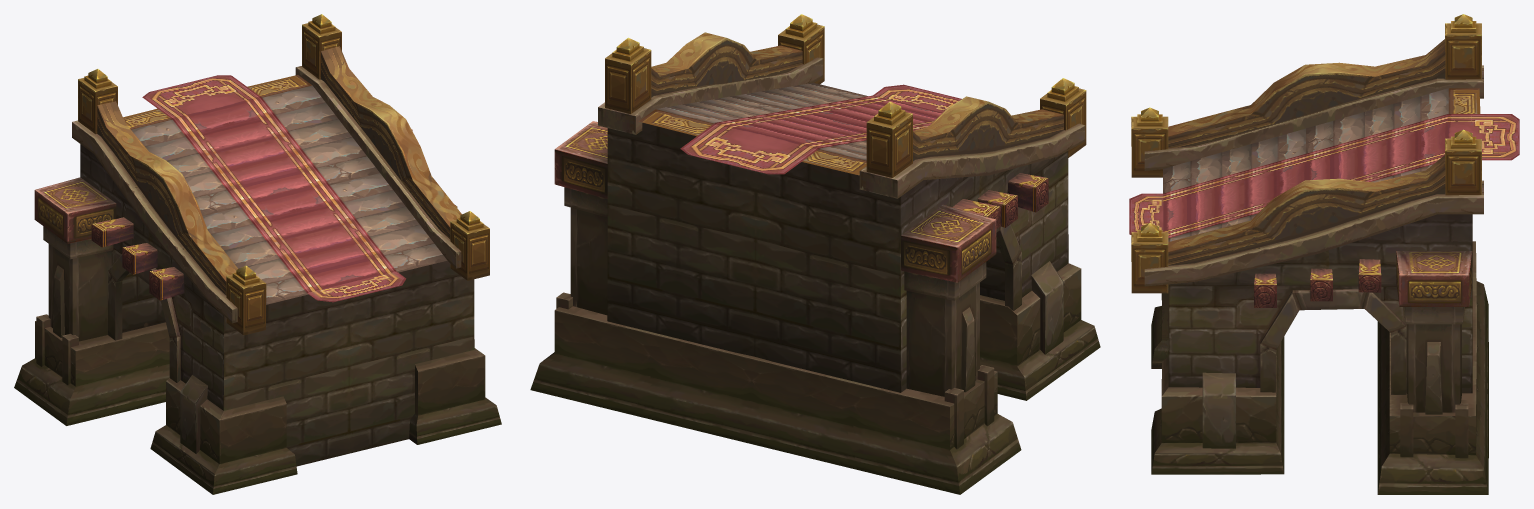
Rendered from fb_jjc_zj_06.FBX.
3 renders of one model, left to right at view 1: azimuth 30°, elevation 25°; view 2: azimuth 150°, elevation 25°; view 3: azimuth 270°, elevation 25°, orthographic. The views are drawn at different scales.
Parts seen in each view (by area): view 1: fb_jjc_zj_06; view 2: fb_jjc_zj_06; view 3: fb_jjc_zj_06.
Part boxes in pixels (bbox=[...]): fb_jjc_zj_06: bbox=[14, 14, 501, 494]; fb_jjc_zj_06: bbox=[530, 14, 1100, 494]; fb_jjc_zj_06: bbox=[1129, 14, 1519, 494].
Bounding box in the file's own units: 1142 × 921 × 993.
